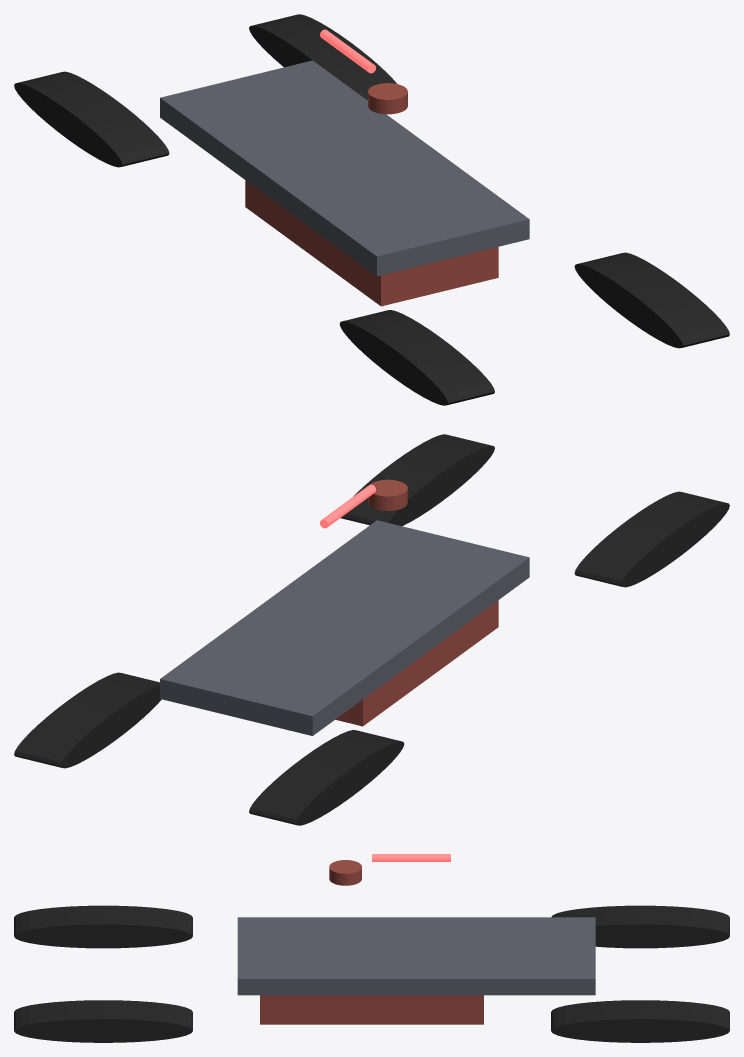
File: SU_RysScout_LOD1.glb
3 renders of one model, top to bottom at view 1: azimuth 30°, elevation 25°; view 2: azimuth 150°, elevation 25°; view 3: azimuth 270°, elevation 25°, orthographic. The views are drawn at different scales.
Visible parts, largest first — view 1: Cube.001, Cylinder, Cylinder.001, Cylinder.002, Cube, Cylinder.003, Cylinder.004, Cylinder.005; view 2: Cube.001, Cylinder.001, Cylinder, Cylinder.003, Cylinder.002, Cube, Cylinder.004, Cylinder.005; view 3: Cube.001, Cylinder, Cylinder.002, Cylinder.003, Cube, Cylinder.001, Cylinder.004, Cylinder.005.
Part boxes in pixels (x1,y1,x2,y2): Cube.001: (160, 60, 529, 276); Cylinder: (339, 310, 494, 405); Cylinder.001: (14, 71, 169, 167); Cylinder.002: (574, 252, 729, 348); Cube: (245, 180, 498, 306); Cylinder.003: (249, 14, 396, 100); Cylinder.004: (368, 83, 407, 114); Cylinder.005: (320, 29, 375, 73); Cube.001: (160, 520, 529, 735); Cylinder.001: (249, 730, 404, 825); Cylinder: (574, 491, 729, 587); Cylinder.003: (14, 672, 161, 768); Cylinder.002: (341, 434, 494, 526); Cube: (335, 600, 498, 726); Cylinder.004: (368, 479, 407, 510); Cylinder.005: (320, 484, 375, 528); Cube.001: (237, 917, 595, 995); Cylinder: (14, 905, 192, 948); Cylinder.002: (14, 1000, 192, 1042); Cylinder.003: (551, 1000, 729, 1042); Cube: (260, 995, 483, 1024); Cylinder.001: (551, 905, 729, 948); Cylinder.004: (329, 860, 361, 885); Cylinder.005: (372, 854, 450, 861).
Size of what is drawn, in the model's own units: 4.08 by 2.46 by 10.88.
